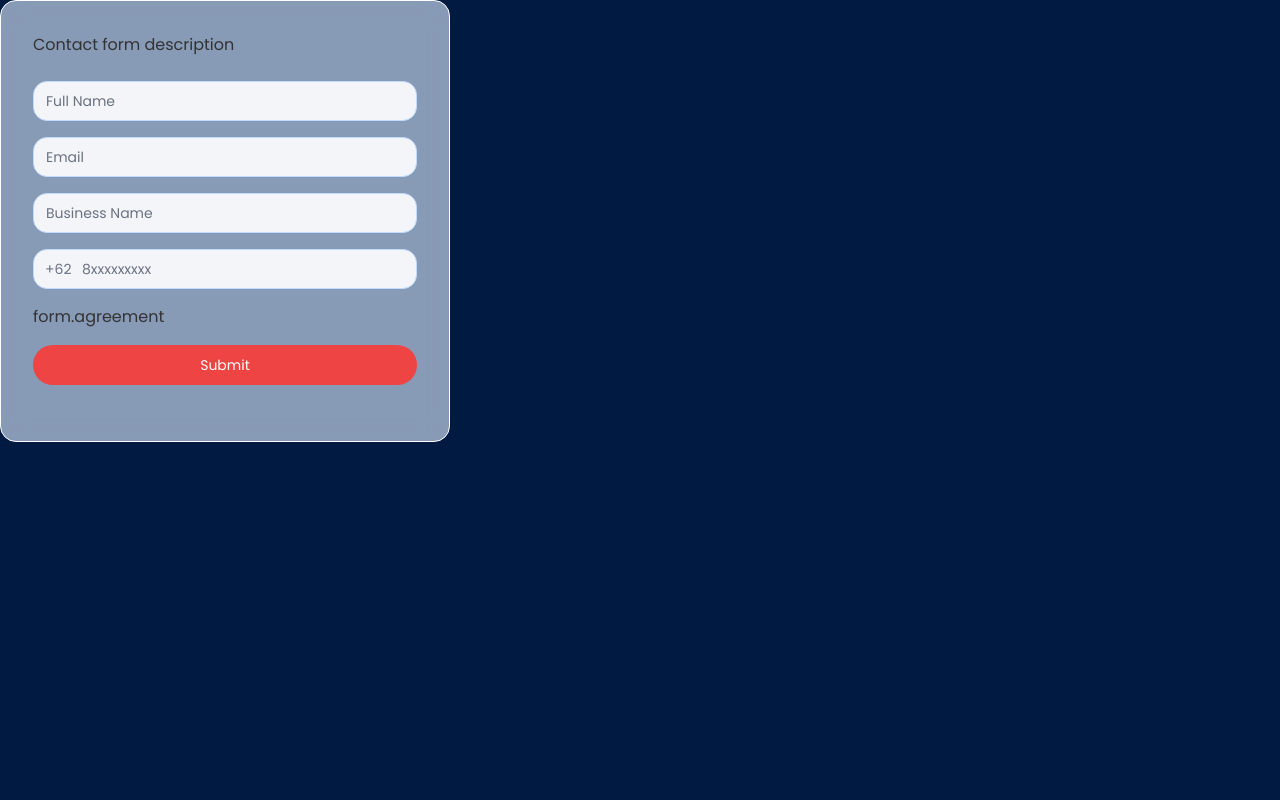
ContactForm › closes success dialog when clicking close button
// Fill in form fields with valid data
In the field with placeholder "Full Name": (225, 101) left=33, top=81, right=417, bottom=121, type "John Doe"
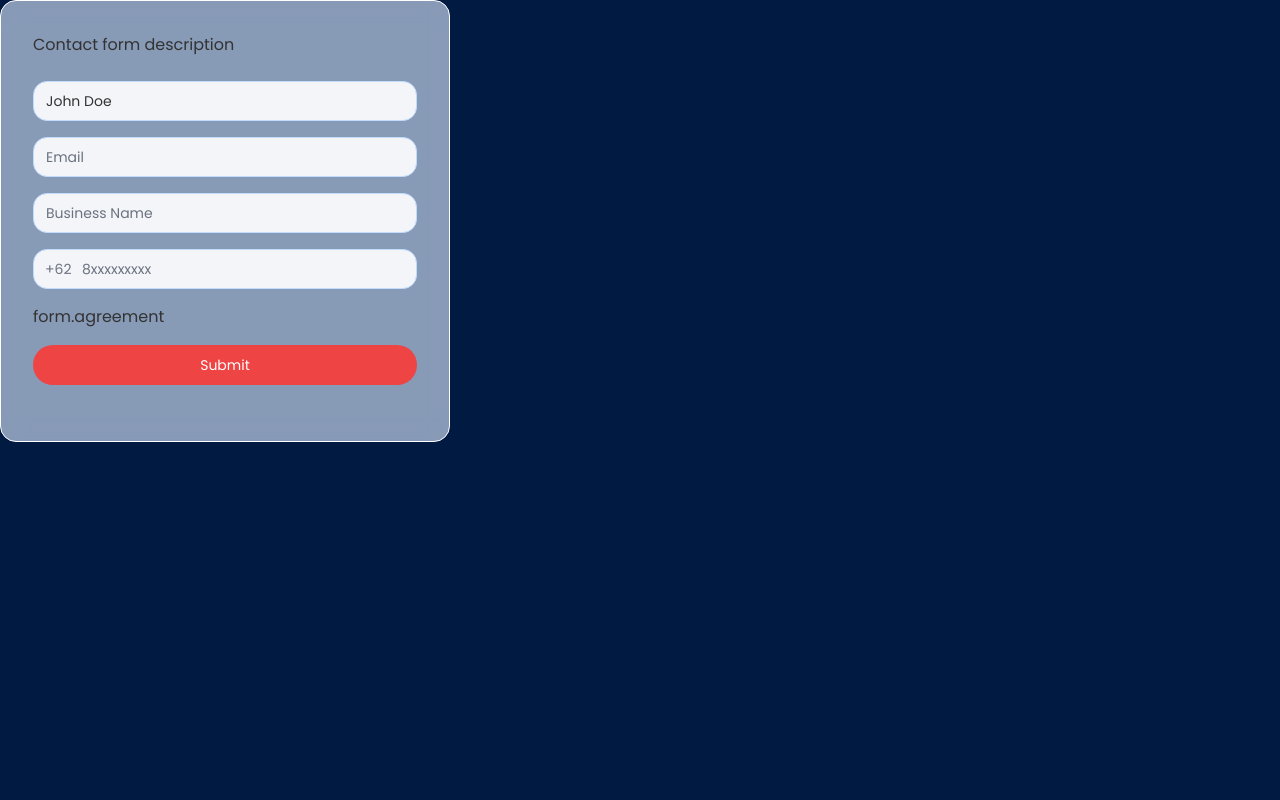
In the field with placeholder "Email": (225, 157) left=33, top=137, right=417, bottom=177, type "john@example.com"
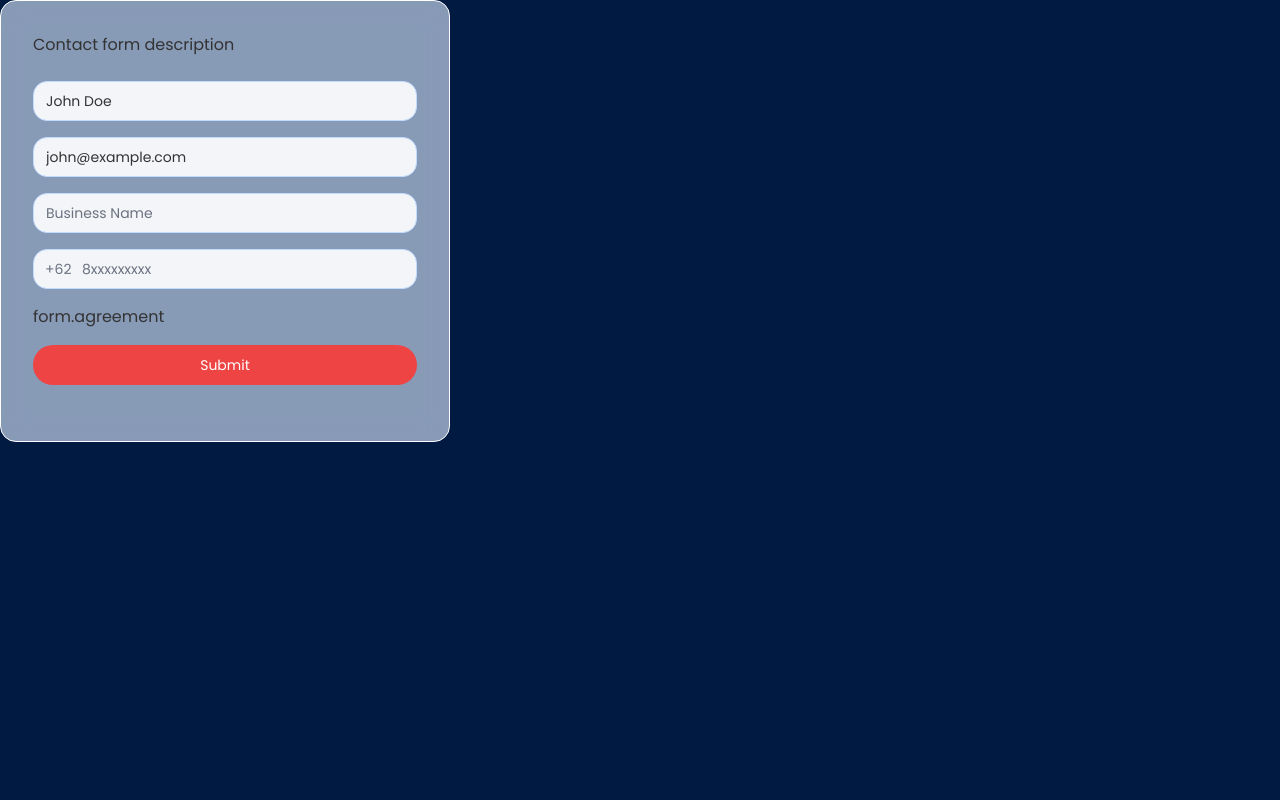
In the field with placeholder "Business Name": (225, 213) left=33, top=193, right=417, bottom=233, type "ACME Corp"
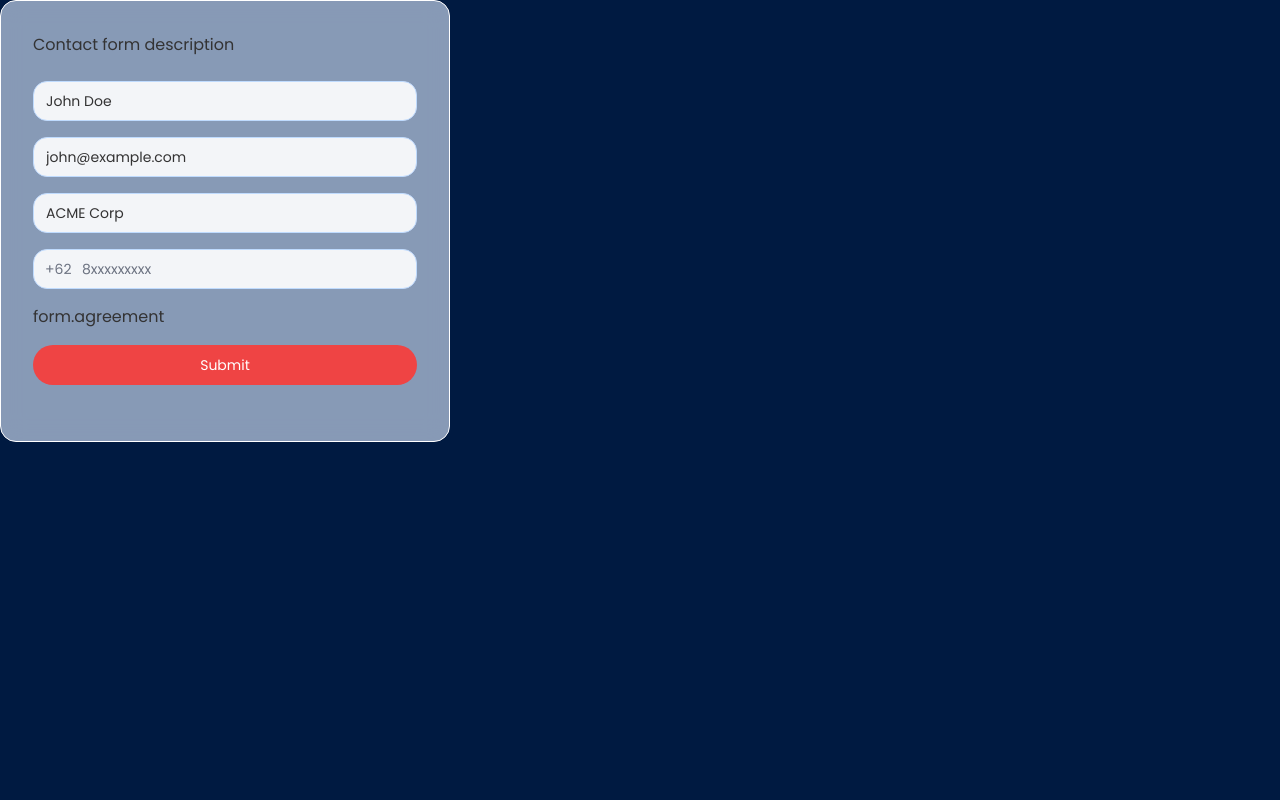
In the field with placeholder "8xxxxxxxxx": (225, 269) left=33, top=249, right=417, bottom=289, type "81234567890"
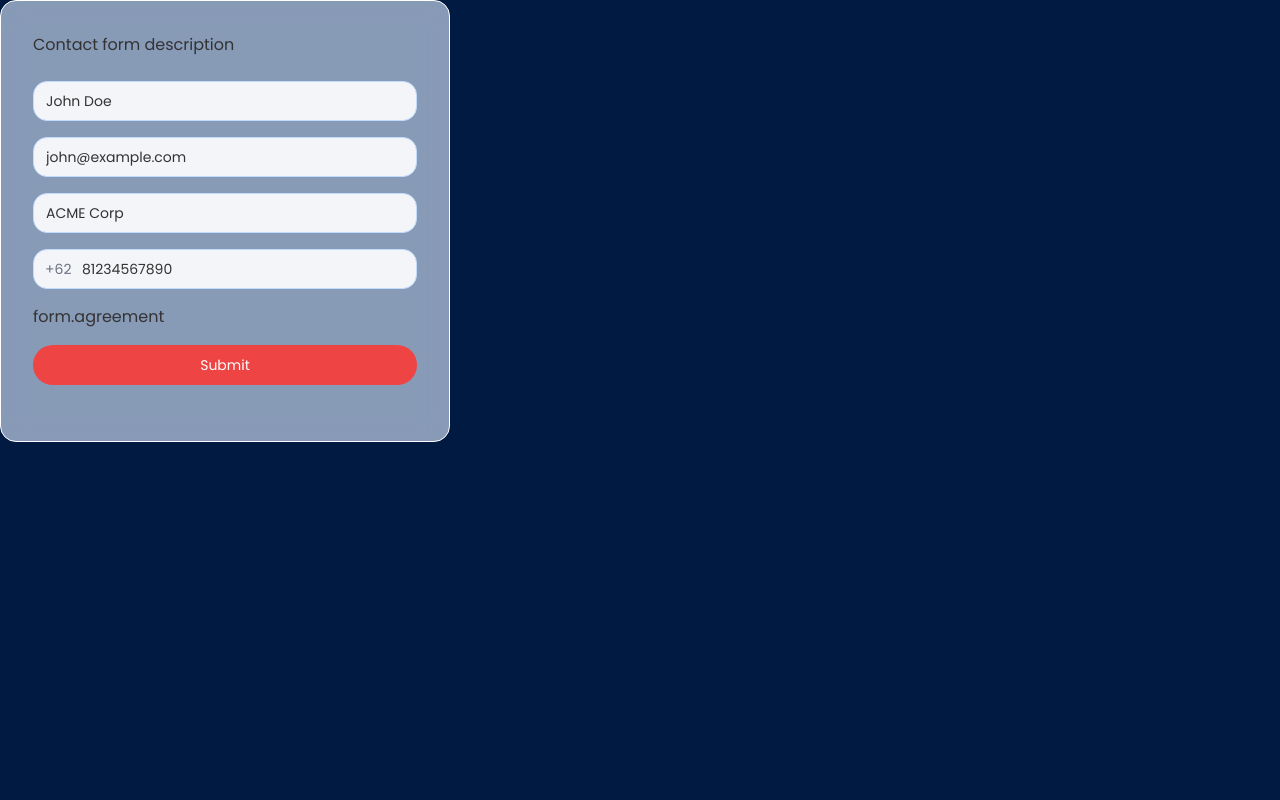
// Submit the form
Click the button "Submit": (225, 365) left=33, top=345, right=417, bottom=385
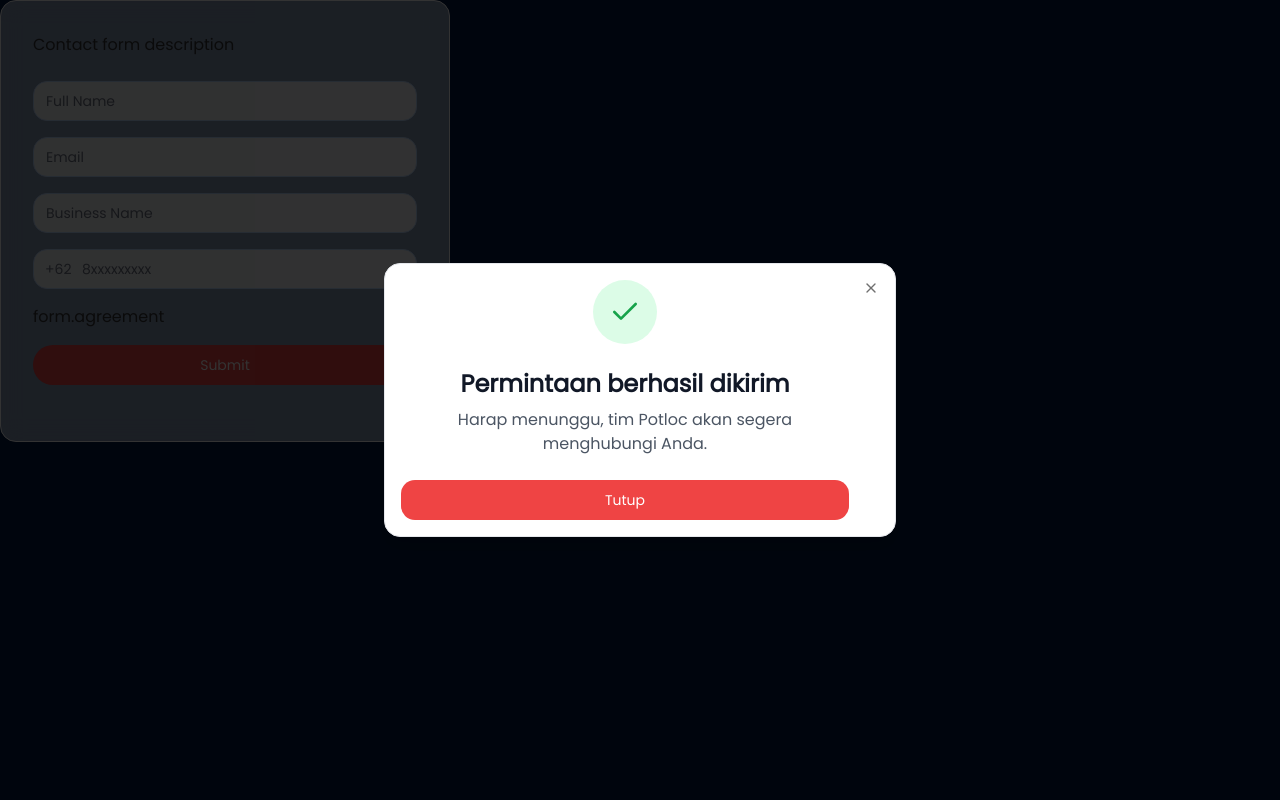
// Click the close button
Click the button "Tutup": (625, 500) left=401, top=480, right=849, bottom=520
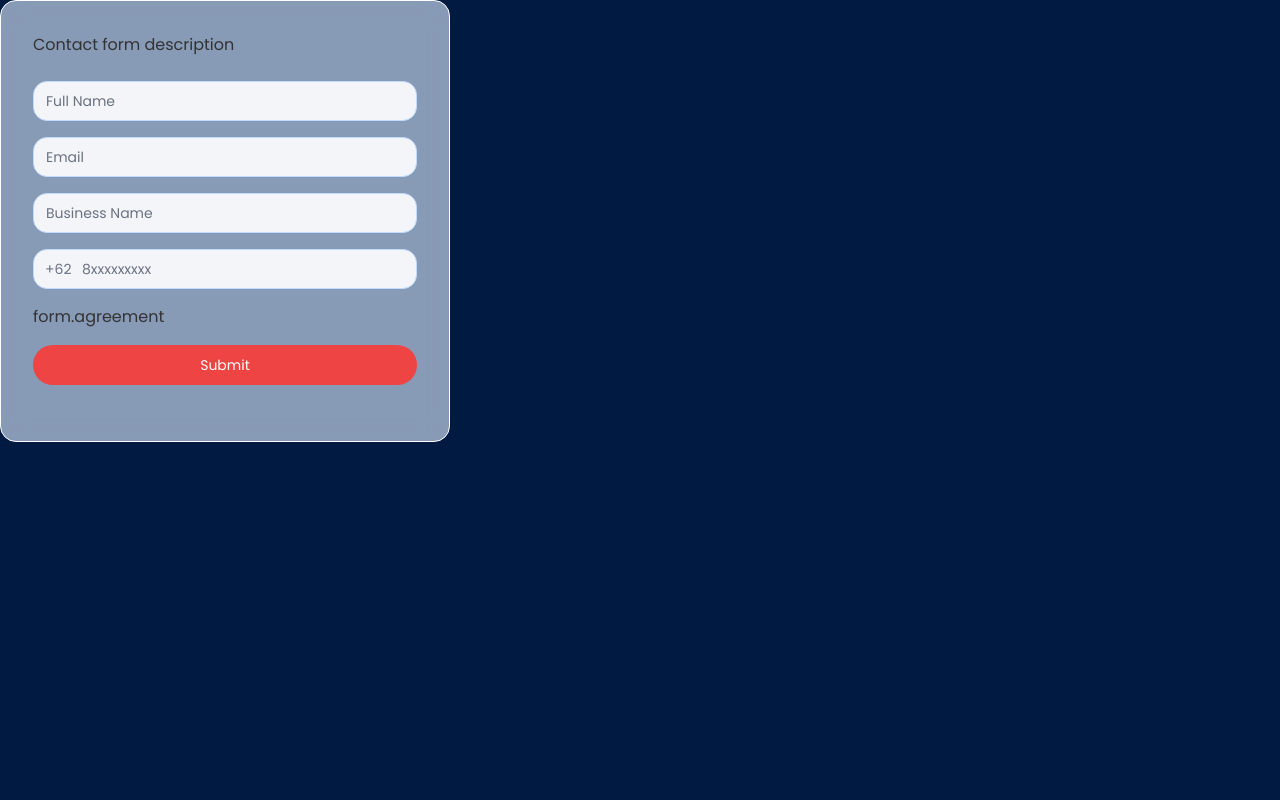
Result: the heading "Permintaan berhasil dikirim" is gone
